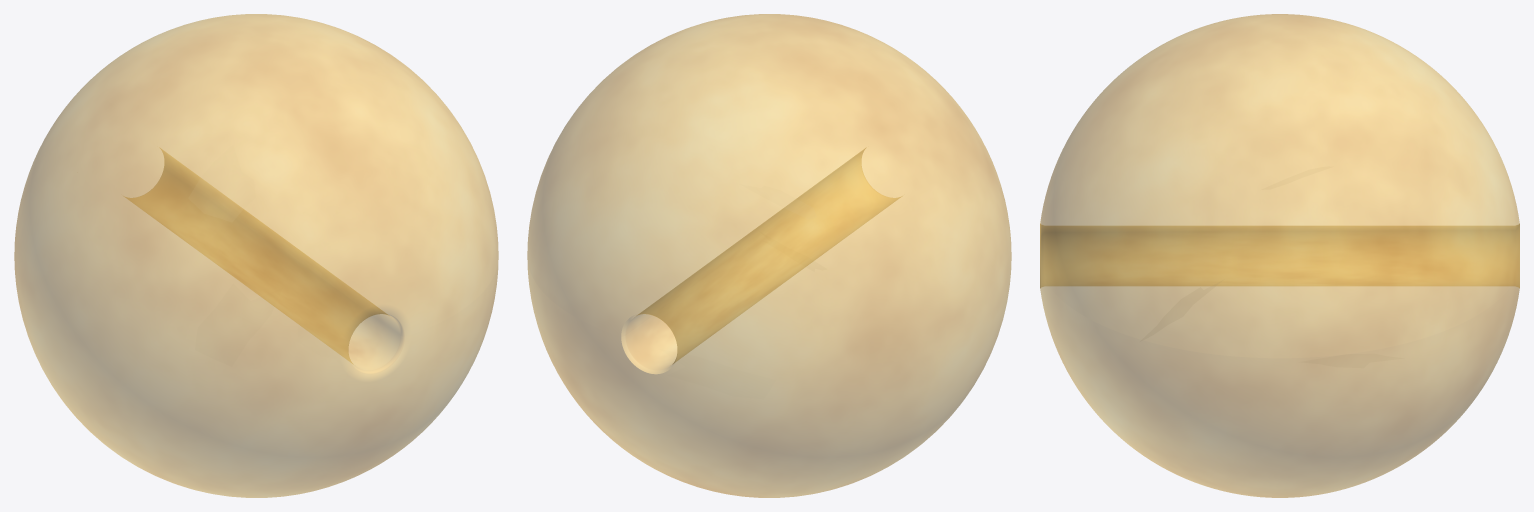
Rendered from citrine.glb.
3 renders of one model, left to right at view 1: azimuth 30°, elevation 25°; view 2: azimuth 150°, elevation 25°; view 3: azimuth 270°, elevation 25°, orthographic.
Visible parts, largest first — view 1: citrine.001; view 2: citrine.001; view 3: citrine.001.
Boxes of the visible parts, x1=… form: citrine.001: x1=14, y1=14, x2=498, y2=497; citrine.001: x1=527, y1=14, x2=1011, y2=497; citrine.001: x1=1040, y1=14, x2=1519, y2=497.
Size of the model in its own units: 0.008 by 0.008 by 0.00793.
Materials: 2 (1 with a texture image).
